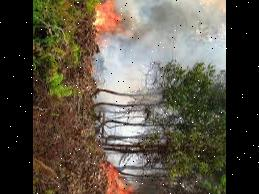fire: (99, 150, 154, 194), (89, 0, 123, 39)
